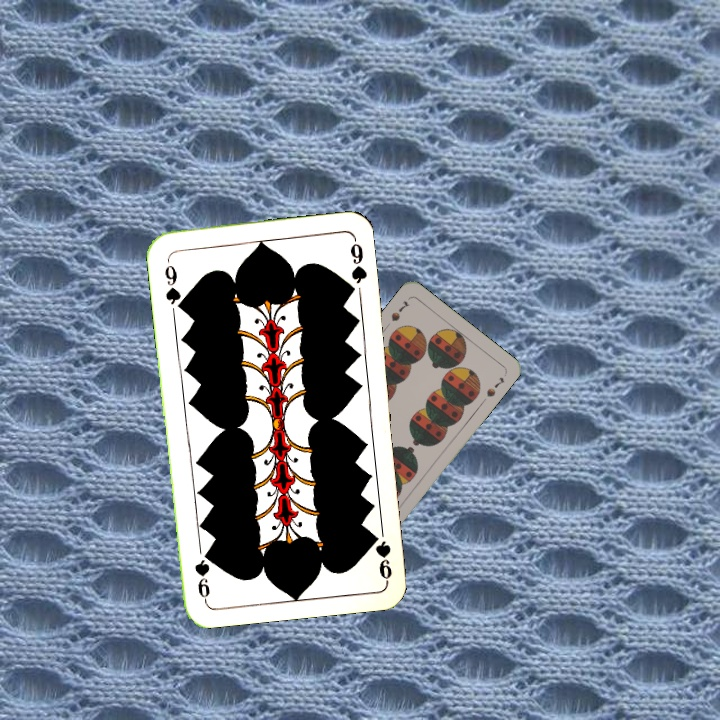G9: (161, 255, 186, 313), (369, 529, 395, 583)
S7: (387, 297, 412, 324)
